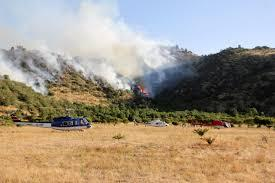yanwu: (1, 0, 190, 95)
